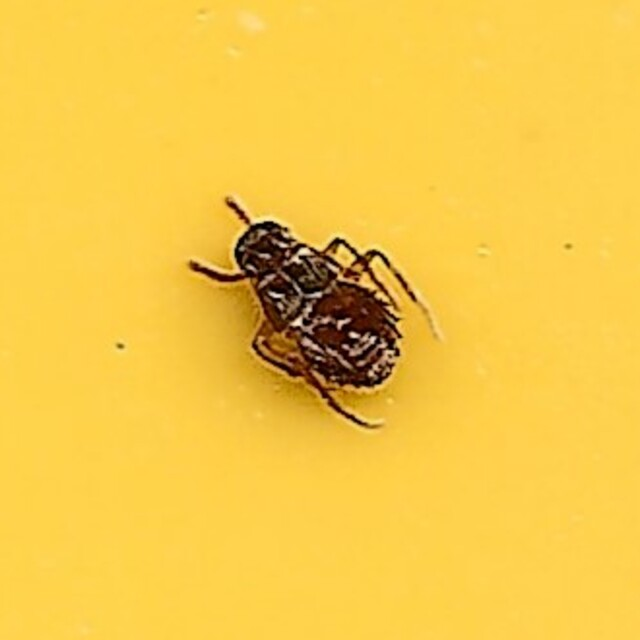Coleoptera: (194, 201, 446, 439)
